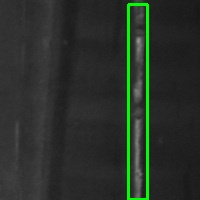scratches: (128, 4, 147, 199)
